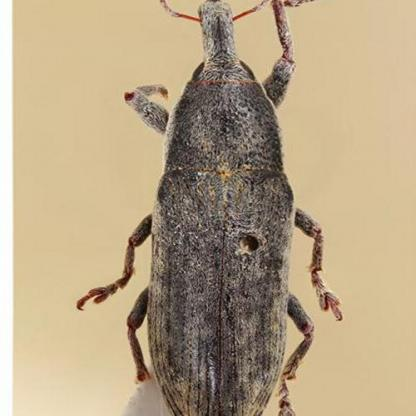rice-bug: (125, 0, 324, 416)
